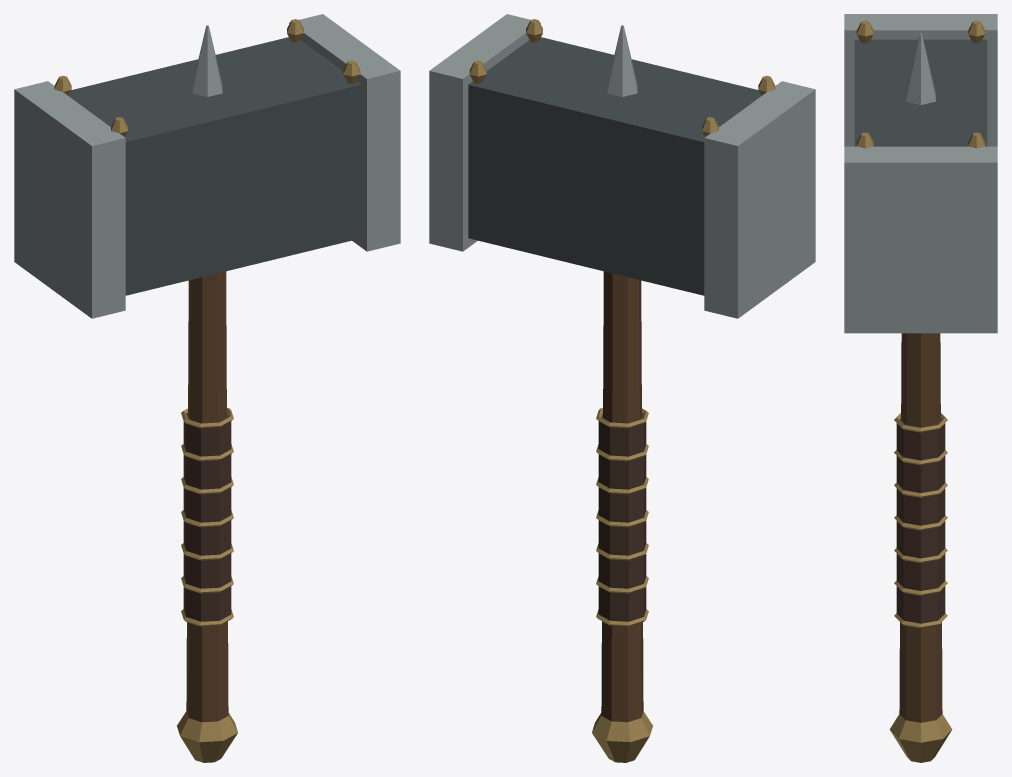
The model's file is WPN_Hammer_00_Warden.glb.
3 renders of one model, left to right at view 1: azimuth 30°, elevation 25°; view 2: azimuth 150°, elevation 25°; view 3: azimuth 270°, elevation 25°, orthographic.
Visible parts, largest first — view 1: WPN_Hammer_00_Warden__Body; view 2: WPN_Hammer_00_Warden__Body; view 3: WPN_Hammer_00_Warden__Body.
Boxes of the visible parts, x1=… form: WPN_Hammer_00_Warden__Body: x1=14, y1=14, x2=400, y2=762; WPN_Hammer_00_Warden__Body: x1=429, y1=14, x2=815, y2=762; WPN_Hammer_00_Warden__Body: x1=844, y1=14, x2=997, y2=762.
Bounding box in the file's own units: 0.505 × 1.14 × 0.22.
